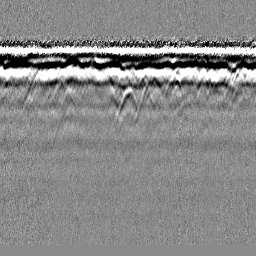cavity: (115, 85, 138, 123)
